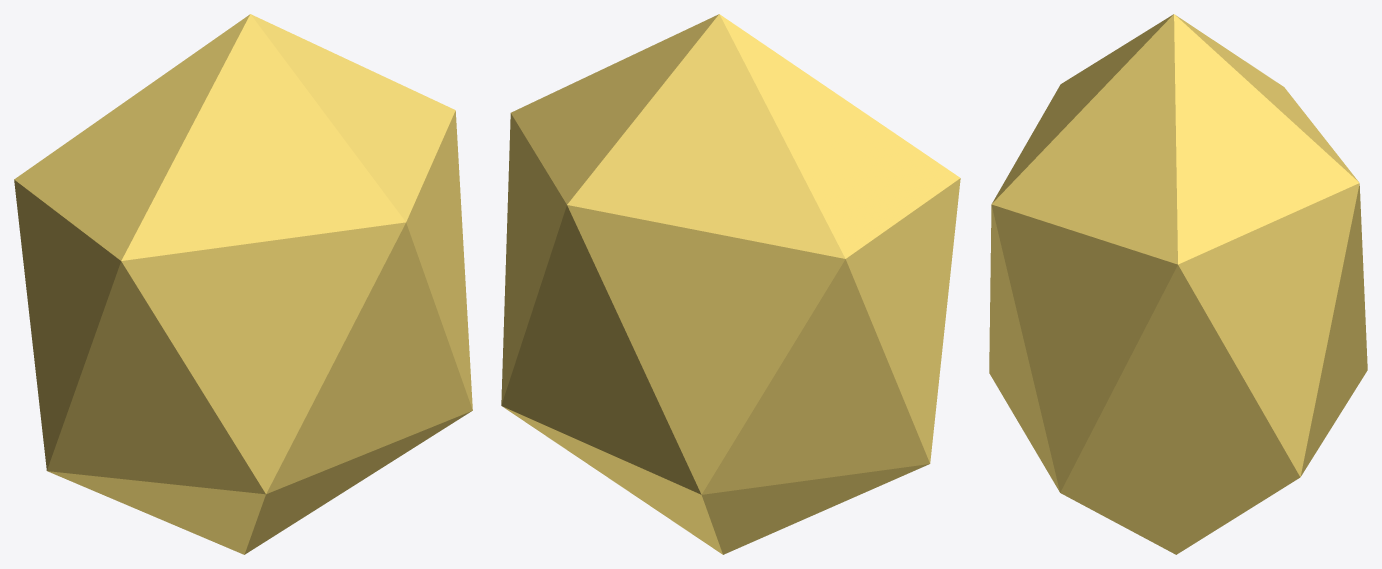
File: Bait_AmberMosquito.fbx
3 views of the same model, side by side, from view 1: azimuth 30°, elevation 25°; view 2: azimuth 150°, elevation 25°; view 3: azimuth 270°, elevation 25° (orthographic).
Parts seen in each view (by area): view 1: Gold.002; view 2: Gold.002; view 3: Gold.002.
Boxes of the visible parts, bbox=[...] form: Gold.002: bbox=[14, 14, 472, 554]; Gold.002: bbox=[501, 14, 960, 554]; Gold.002: bbox=[989, 14, 1367, 554].
Bounding box in the file's own units: 1.32 × 1.65 × 1.04.
